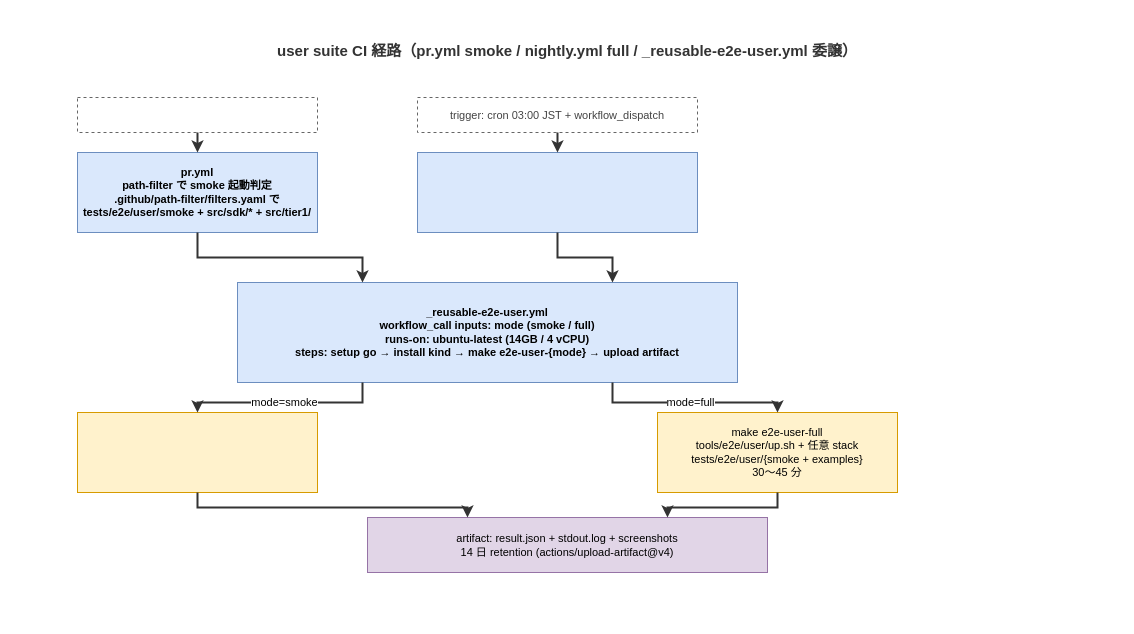
Image size: 1134x634. Some labels were removed from this diagram. The box of each missing label's shape, as (x1, y1, x2, y2) in pixels:
make e2e-user-smoke tools/e2e/user/up.sh tests/e2e/user/smoke/ 5 分以内: (76, 412, 318, 492)
nightly.yml cron 18:00 UTC = 03:00 JST workflow_dispatch で手動起動可: (416, 152, 698, 232)
trigger: PR 毎 (push / 再起動): (76, 96, 318, 132)
